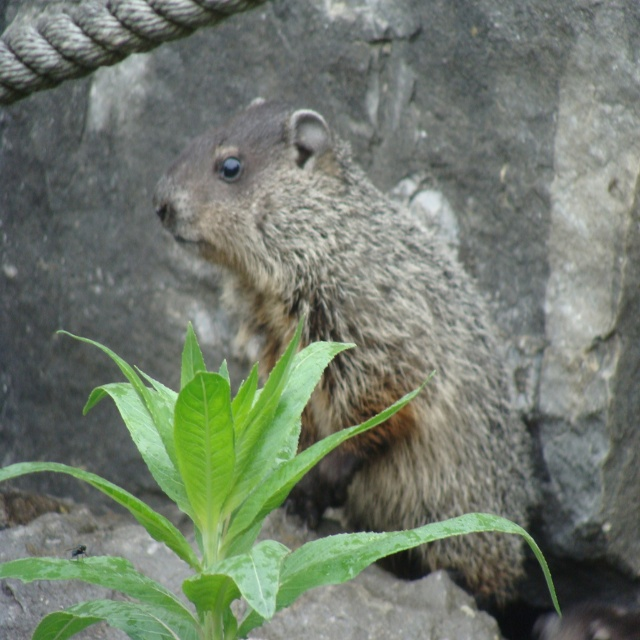Mouse: (154, 98, 532, 607)
